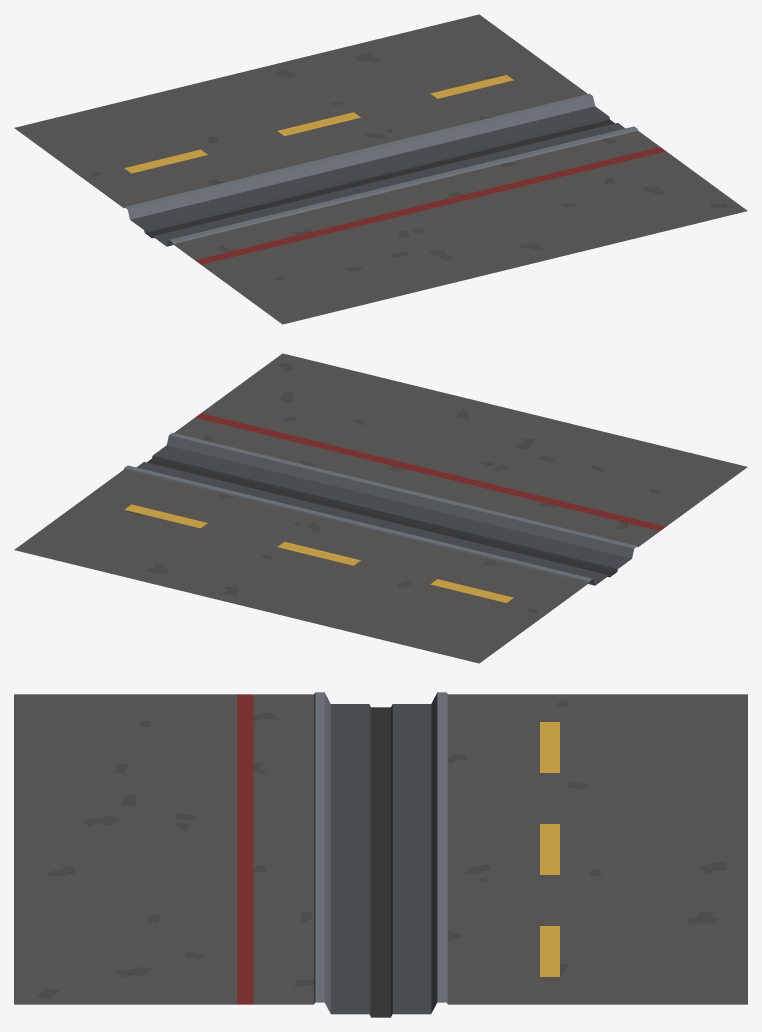
The model's file is SM_Env_Ground_Rail_01.fbx.
3 views of the same model, one above another, from view 1: azimuth 30°, elevation 25°; view 2: azimuth 150°, elevation 25°; view 3: azimuth 270°, elevation 25° (orthographic). The views are drawn at different scales.
Visible parts, largest first — view 1: SM_Env_Ground_Rail_01; view 2: SM_Env_Ground_Rail_01; view 3: SM_Env_Ground_Rail_01.
Part boxes in pixels (x1,y1,x2,y2): SM_Env_Ground_Rail_01: (14, 14, 747, 324); SM_Env_Ground_Rail_01: (14, 353, 747, 663); SM_Env_Ground_Rail_01: (14, 692, 747, 1017).
Size of the model in its own units: 1000 by 22.54 by 1000.
